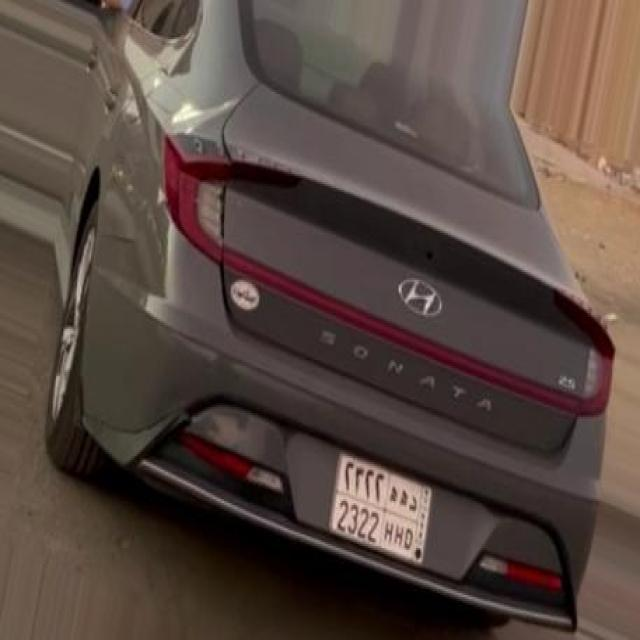Car-plate: (319, 428, 438, 574)
